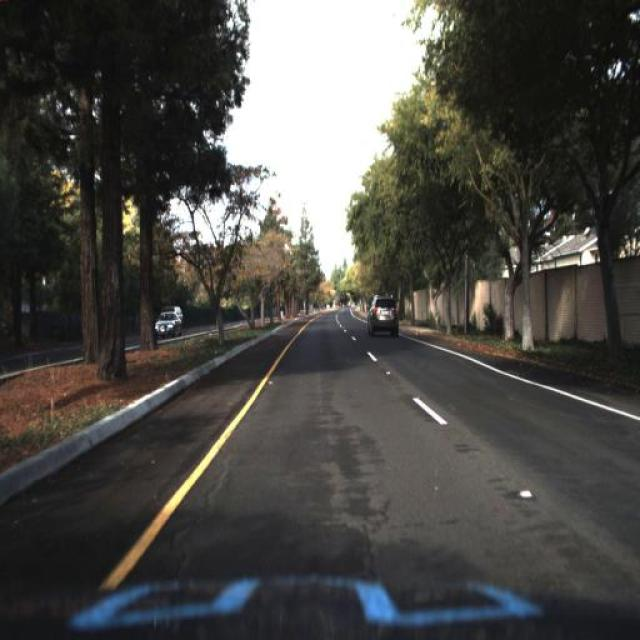car: (361, 294, 401, 340), (152, 310, 180, 336)
